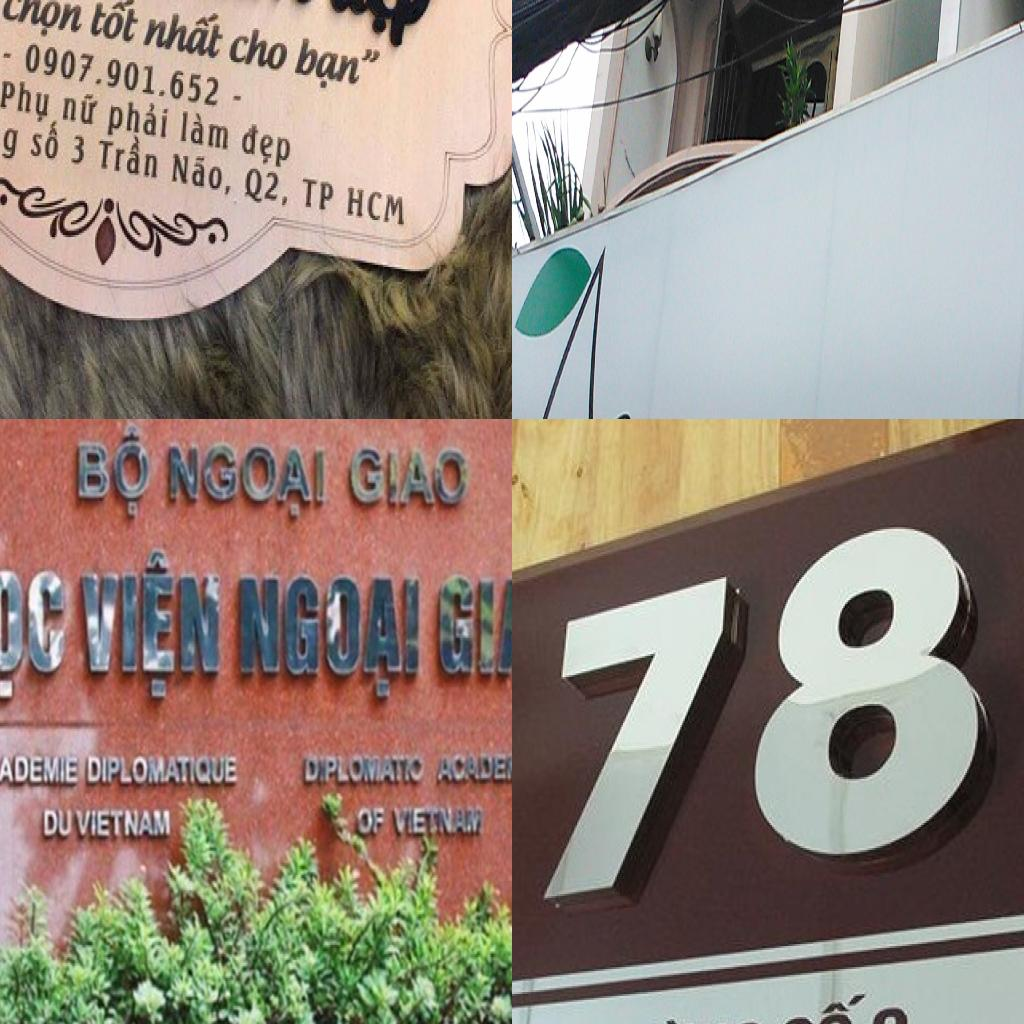text: (718, 496, 999, 882), (512, 544, 775, 922), (235, 569, 427, 711), (73, 546, 225, 704), (20, 39, 234, 113), (164, 437, 332, 526), (0, 562, 69, 708), (343, 442, 472, 514), (431, 571, 512, 683), (71, 419, 152, 521), (327, 0, 455, 64), (289, 30, 386, 99), (84, 753, 240, 790), (138, 9, 228, 64), (298, 750, 428, 787), (0, 0, 92, 49), (580, 1001, 765, 1024), (103, 94, 173, 148), (392, 800, 486, 840), (226, 26, 295, 77), (765, 990, 868, 1024), (168, 150, 236, 200), (239, 118, 298, 175), (432, 747, 512, 787), (94, 137, 162, 184), (0, 750, 79, 790), (85, 0, 144, 49), (0, 75, 53, 126), (180, 107, 232, 156), (239, 164, 292, 212), (298, 171, 340, 220), (58, 88, 102, 130), (29, 118, 63, 164), (0, 104, 24, 166), (38, 806, 74, 841), (352, 806, 387, 838), (864, 1002, 913, 1024), (68, 132, 90, 171)
